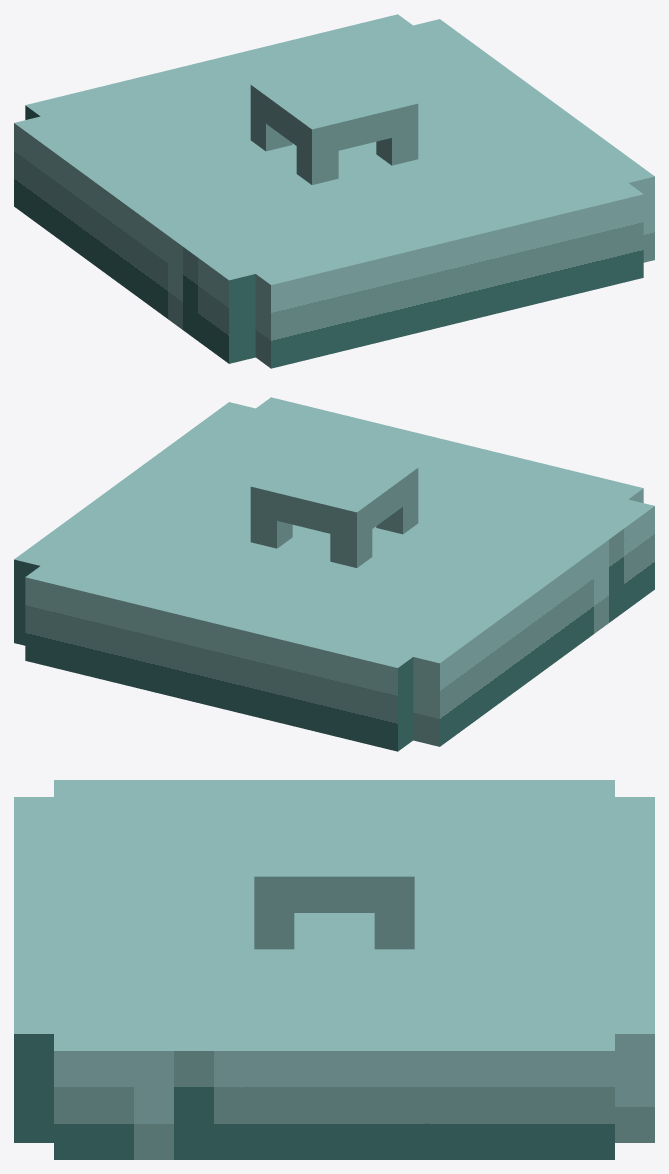
File: trashcan_lidao.fezao.glb
The picture shows the model from 3 angles, top to bottom: view 1: azimuth 30°, elevation 25°; view 2: azimuth 150°, elevation 25°; view 3: azimuth 270°, elevation 25°; orthographic projection. The views are drawn at different scales.
Parts seen in each view (by area): view 1: TRASHCAN_LIDAO; view 2: TRASHCAN_LIDAO; view 3: TRASHCAN_LIDAO.
Boxes of the visible parts, <box> form: TRASHCAN_LIDAO: <box>14,14,654,368</box>; TRASHCAN_LIDAO: <box>14,397,654,751</box>; TRASHCAN_LIDAO: <box>14,780,654,1159</box>.
Bounding box in the file's own units: 1 × 0.3125 × 1.
1 material, 1 textured.
